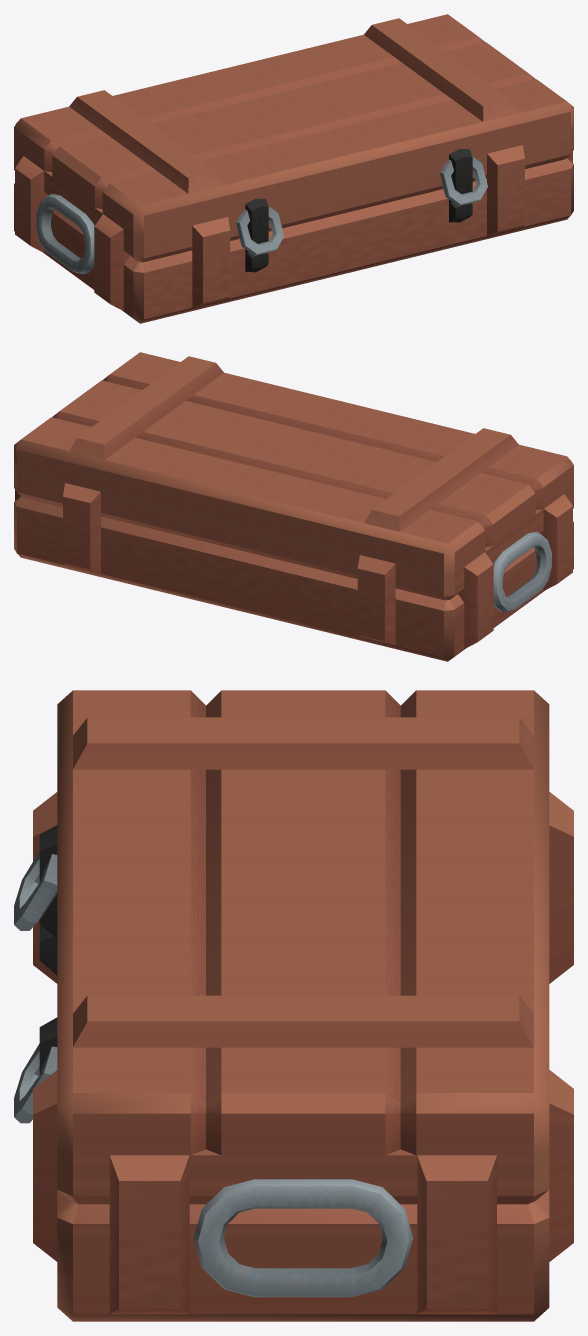
The model's file is containers-crate-medium-wood.glb.
3 views of the same model, one above another, from view 1: azimuth 30°, elevation 25°; view 2: azimuth 150°, elevation 25°; view 3: azimuth 270°, elevation 25° (orthographic). The views are drawn at different scales.
Visible parts, largest first — view 1: Containers_Crate_Medium_Wood; view 2: Containers_Crate_Medium_Wood; view 3: Containers_Crate_Medium_Wood.
Boxes of the visible parts, box(x1,y1,x2,y2) form: Containers_Crate_Medium_Wood: box(14, 14, 573, 323); Containers_Crate_Medium_Wood: box(14, 352, 573, 661); Containers_Crate_Medium_Wood: box(14, 690, 573, 1321).
Bounding box in the file's own units: 1.71 × 0.45 × 0.9107.
Materials: 1 (1 with a texture image).
